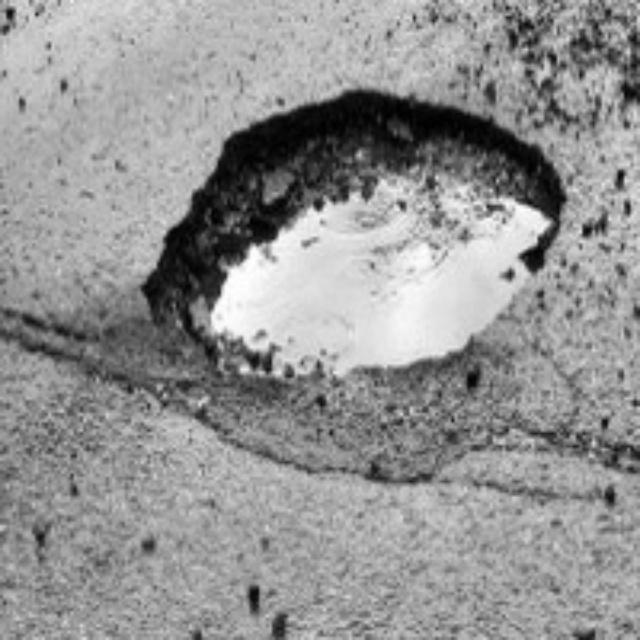Pothole: (172, 90, 544, 419)
